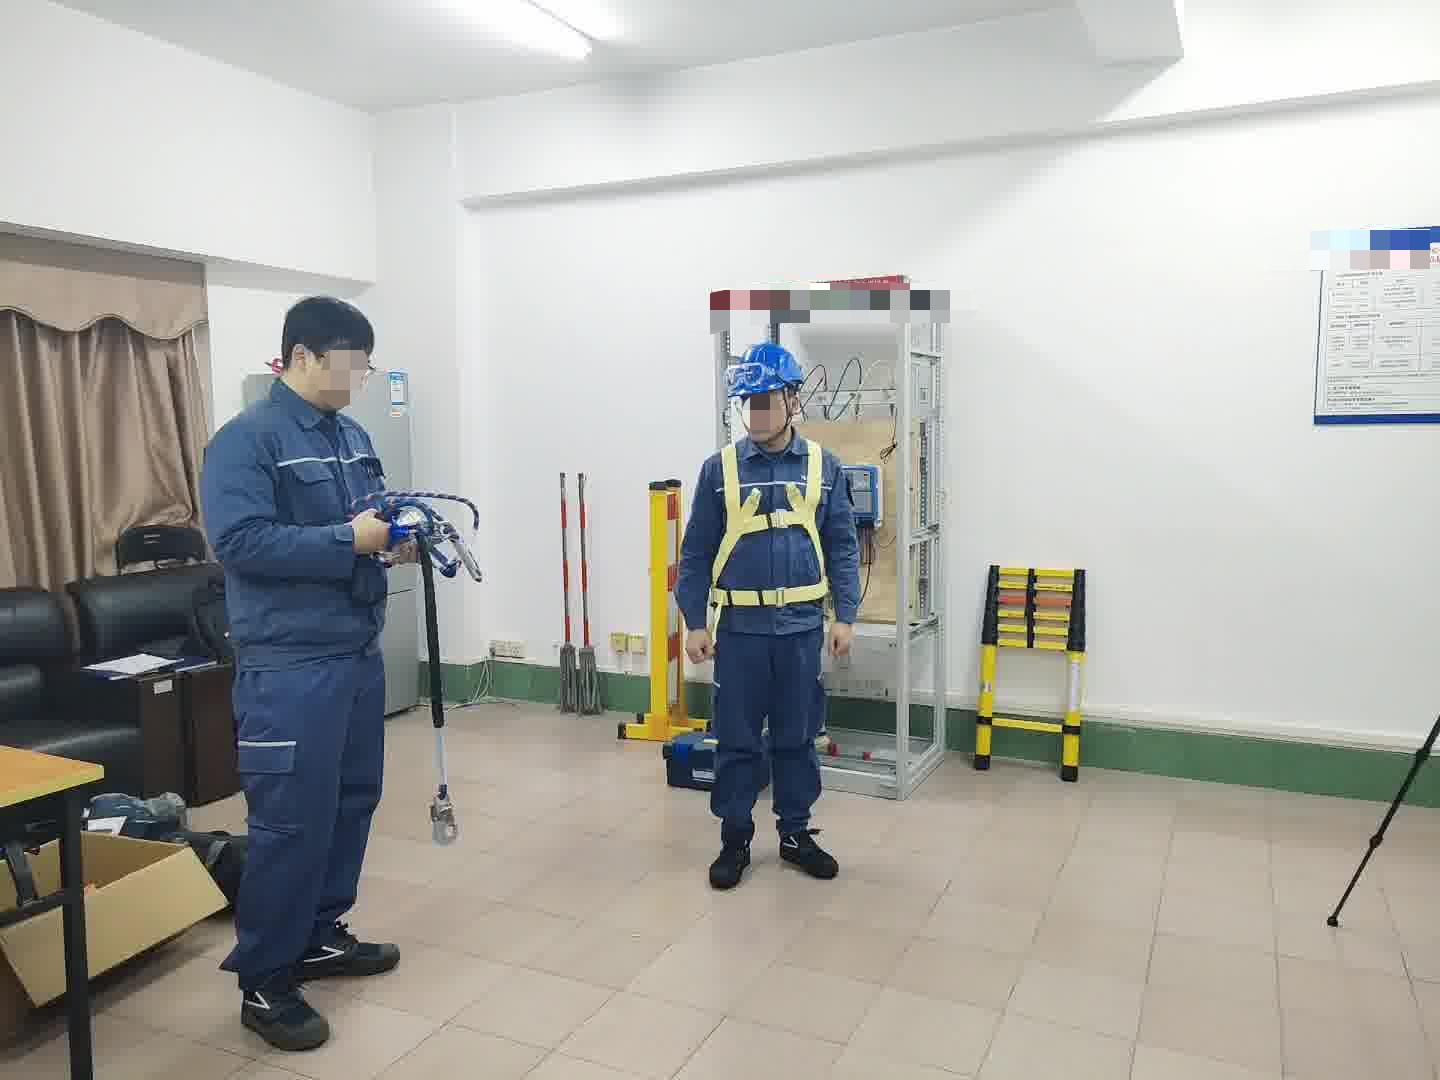halt: (731, 343, 808, 445)
inear: (778, 389, 806, 432)
noear: (293, 343, 336, 395)
unhalt: (278, 296, 382, 411)
